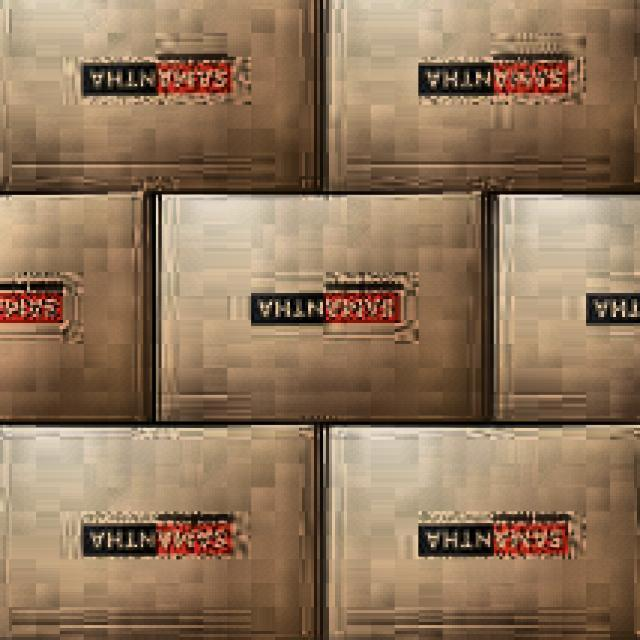cardboard: (155, 194, 488, 425), (0, 425, 323, 640), (323, 425, 640, 640), (0, 0, 323, 198), (323, 0, 640, 195)
